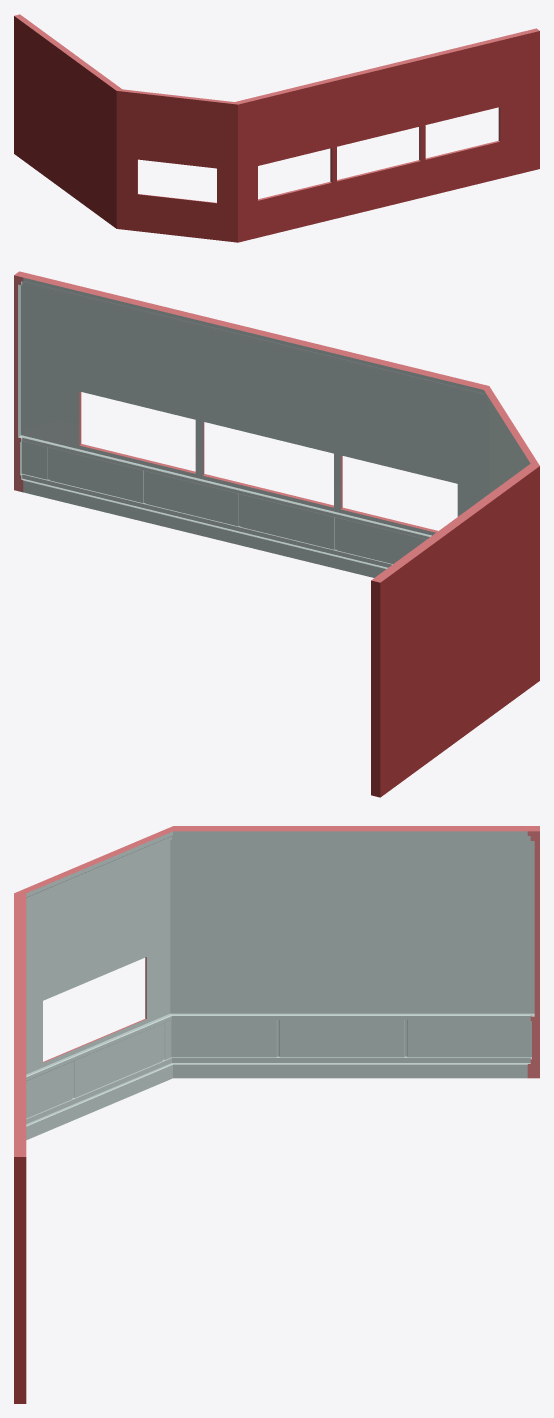
Rendered from Kitchen_Wall.fbx.
3 renders of one model, top to bottom at view 1: azimuth 30°, elevation 25°; view 2: azimuth 150°, elevation 25°; view 3: azimuth 270°, elevation 25°, orthographic. The views are drawn at different scales.
Visible parts, largest first — view 1: polySurface304; view 2: polySurface304; view 3: polySurface304.
Boxes of the visible parts, left/top/right/bottom form: polySurface304: left=14, top=14, right=539, bottom=242; polySurface304: left=14, top=271, right=539, bottom=797; polySurface304: left=14, top=826, right=539, bottom=1403.
Size of the model in its own units: 149 by 52.01 by 100.
